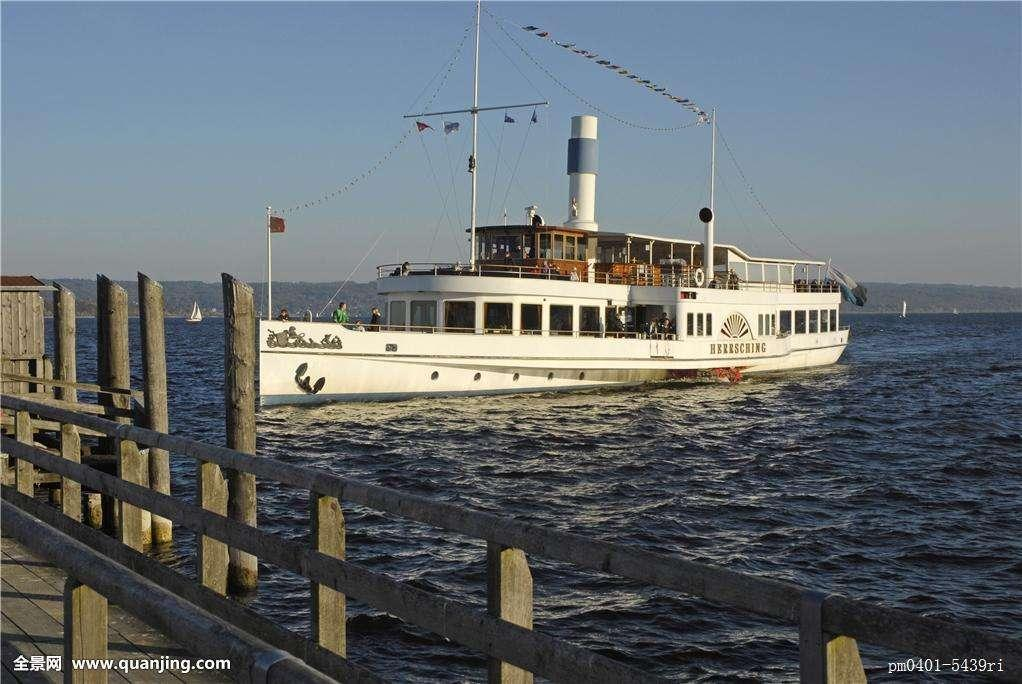otherboat: (254, 110, 868, 407)
